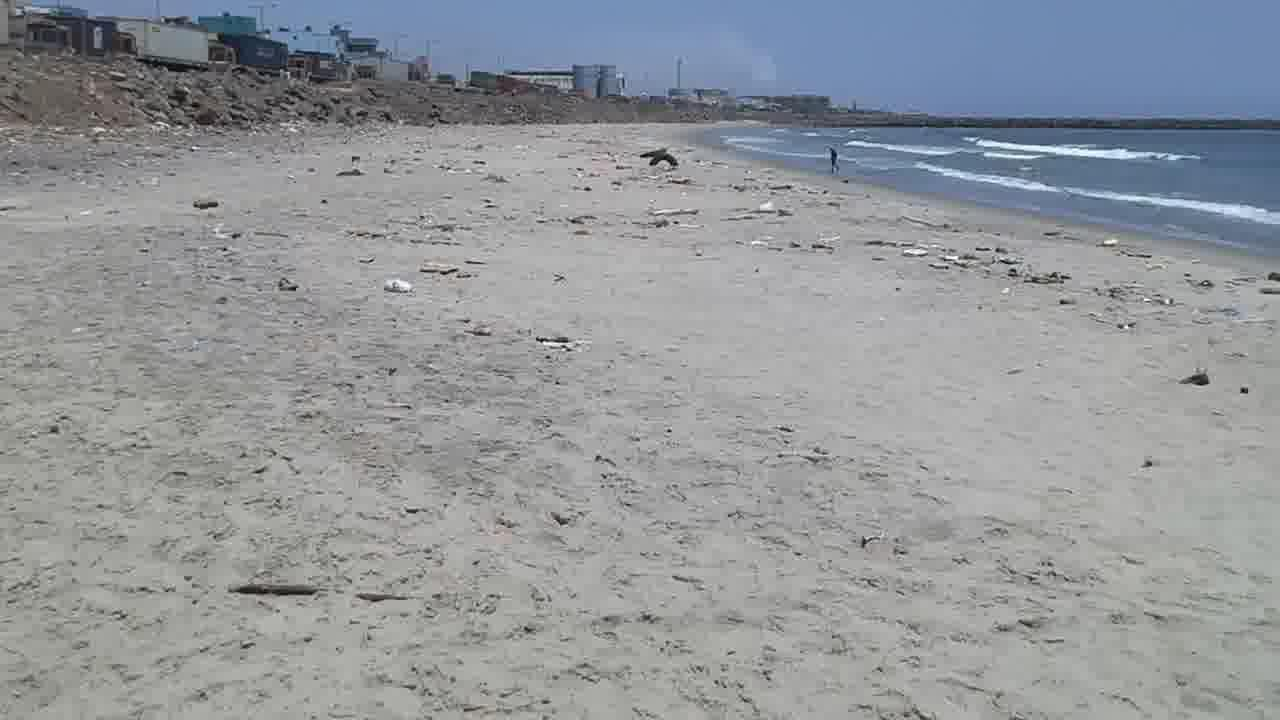large collection of objects: (829, 145, 840, 174)
obj: (228, 582, 318, 600), (190, 190, 225, 216), (638, 148, 678, 168), (382, 279, 412, 294)
sand/background: (0, 0, 1279, 277)
